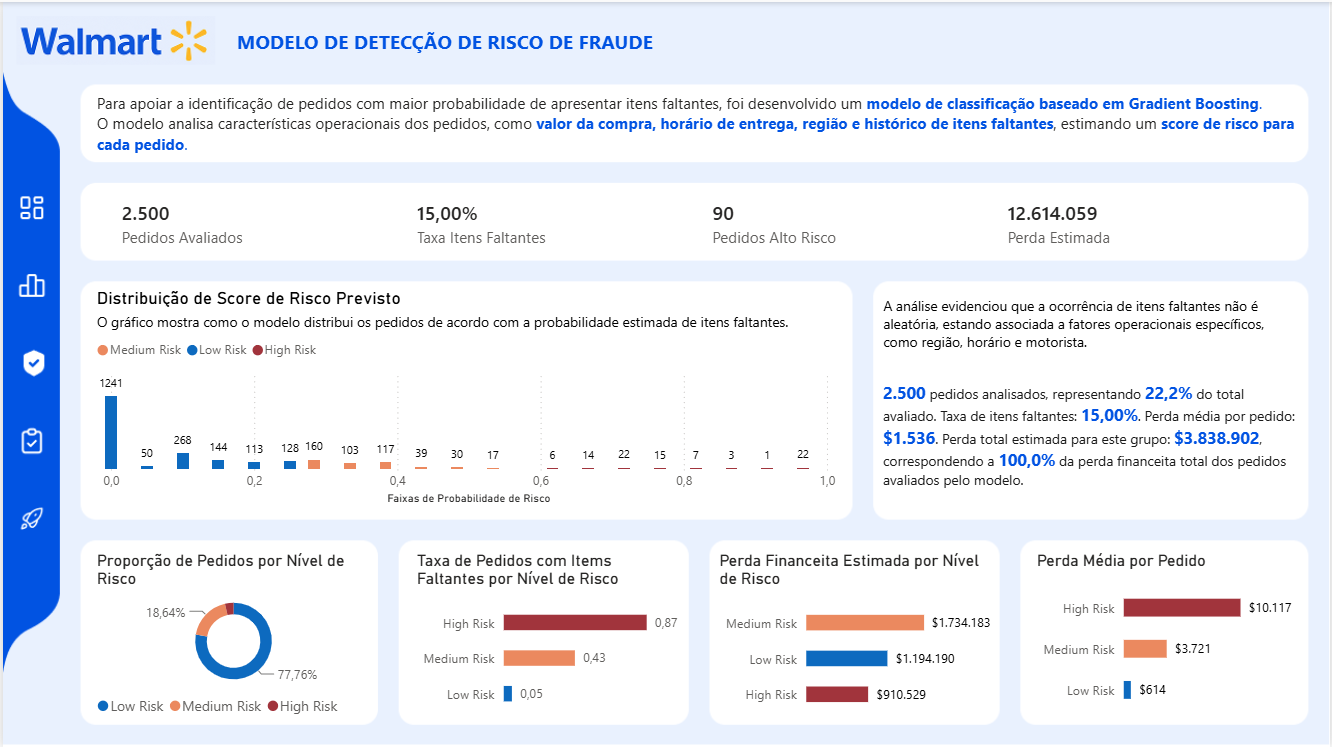

The dashboard page shown, as its layout file describes it:
{"tool":"powerbi","page":{"name":"Modelo","canvas":[1280,720],"ordinal":2},"visuals":[{"type":"cardVisual","fields":{"Data":["_Medidas.Total Orders","_Medidas.Fraud Rate","_Medidas.Pedidos Alto Risco","_Medidas.Estimated Loss"]},"box":[85.8,167.8,1167.1,91.5],"z":0},{"type":"clusteredColumnChart","title":"Distribuição de Score de Risco Previsto","fields":{"Y":["CountNonNull(orders_scored.order_id)"],"Series":["orders_scored.risk_level"],"Category":["orders_scored.risk_probability (compartimentos)"]},"box":[85.1,275.6,728.6,215],"z":1000},{"type":"donutChart","title":"Proporção de Pedidos por Nível de Risco","fields":{"Category":["orders_scored.risk_level"],"Y":["CountNonNull(orders_scored.order_id)"]},"box":[85.1,529.5,274.1,168.8],"z":2000},{"type":"clusteredBarChart","title":"Taxa de Pedidos com Items Faltantes por Nível de Risco","fields":{"Category":["orders_scored.risk_level"],"Y":["Avg(orders_scored.has_missing)"]},"box":[395.1,529,262.8,166.6],"z":3000},{"type":"clusteredBarChart","title":"Perda Financeita Estimada por Nível de Risco","fields":{"Category":["orders_scored.risk_level"],"Y":["_Medidas.Perda Real por Nivel de Risco"]},"box":[686.8,529.5,277,167.4],"z":4000},{"type":"textbox","box":[220.7,20.2,702.6,41.8],"z":5000},{"type":"enlightenDataStoryDDFB78A6143E42CFAFBC50CCF18D978D","fields":{"measure":["_Medidas.Total Orders","_Medidas.Share Pedidos por Nivel","_Medidas.Fraud Rate","_Medidas.Perda Media por Pedido","_Medidas.Perda Real por Nivel de Risco","_Medidas.Share da Perda por Nivel"]},"box":[844.8,360.4,408.1,146.8],"z":6000},{"type":"textbox","box":[85.1,82.2,1168.6,75],"z":7000},{"type":"textbox","box":[844.8,278.4,408.1,82],"z":8000},{"type":"clusteredBarChart","title":"Perda Média por Pedido","fields":{"Category":["orders_scored.risk_level"],"Y":["_Medidas.Perda Media por Pedido"]},"box":[992.8,529,261.1,166.6],"z":9000},{"type":"actionButton","box":[2.4,254.6,51.9,39.8],"z":10000},{"type":"actionButton","box":[2.4,329.4,51.9,39.8],"z":11000},{"type":"actionButton","box":[2.4,403,51.9,39.8],"z":12000},{"type":"actionButton","box":[3.6,477.8,51.9,39.8],"z":13000},{"type":"actionButton","box":[3.6,182.2,51.9,39.8],"z":14000}]}

Visuals, with their boxes on the page's 1280x720 design canvas (x1, y1, x2, y2). These are canvas units, not pixel positions in the 1332x747 screenshot, which may show the page scaled, cropped or inside an application window:
cardVisual - _Medidas.Total Orders x _Medidas.Fraud Rate: <box>86,168,1253,259</box>
"Distribuição de Score de Risco Previsto" clusteredColumnChart: <box>85,276,814,491</box>
"Proporção de Pedidos por Nível de Risco" donutChart: <box>85,530,359,698</box>
"Taxa de Pedidos com Items Faltantes por Nível de Risco" clusteredBarChart: <box>395,529,658,696</box>
"Perda Financeita Estimada por Nível de Risco" clusteredBarChart: <box>687,530,964,697</box>
textbox: <box>221,20,923,62</box>
enlightenDataStoryDDFB78A6143E42CFAFBC50CCF18D978D - _Medidas.Total Orders x _Medidas.Share Pedidos por Nivel: <box>845,360,1253,507</box>
textbox: <box>85,82,1254,157</box>
textbox: <box>845,278,1253,360</box>
"Perda Média por Pedido" clusteredBarChart: <box>993,529,1254,696</box>
actionButton: <box>2,255,54,294</box>
actionButton: <box>2,329,54,369</box>
actionButton: <box>2,403,54,443</box>
actionButton: <box>4,478,56,518</box>
actionButton: <box>4,182,56,222</box>
